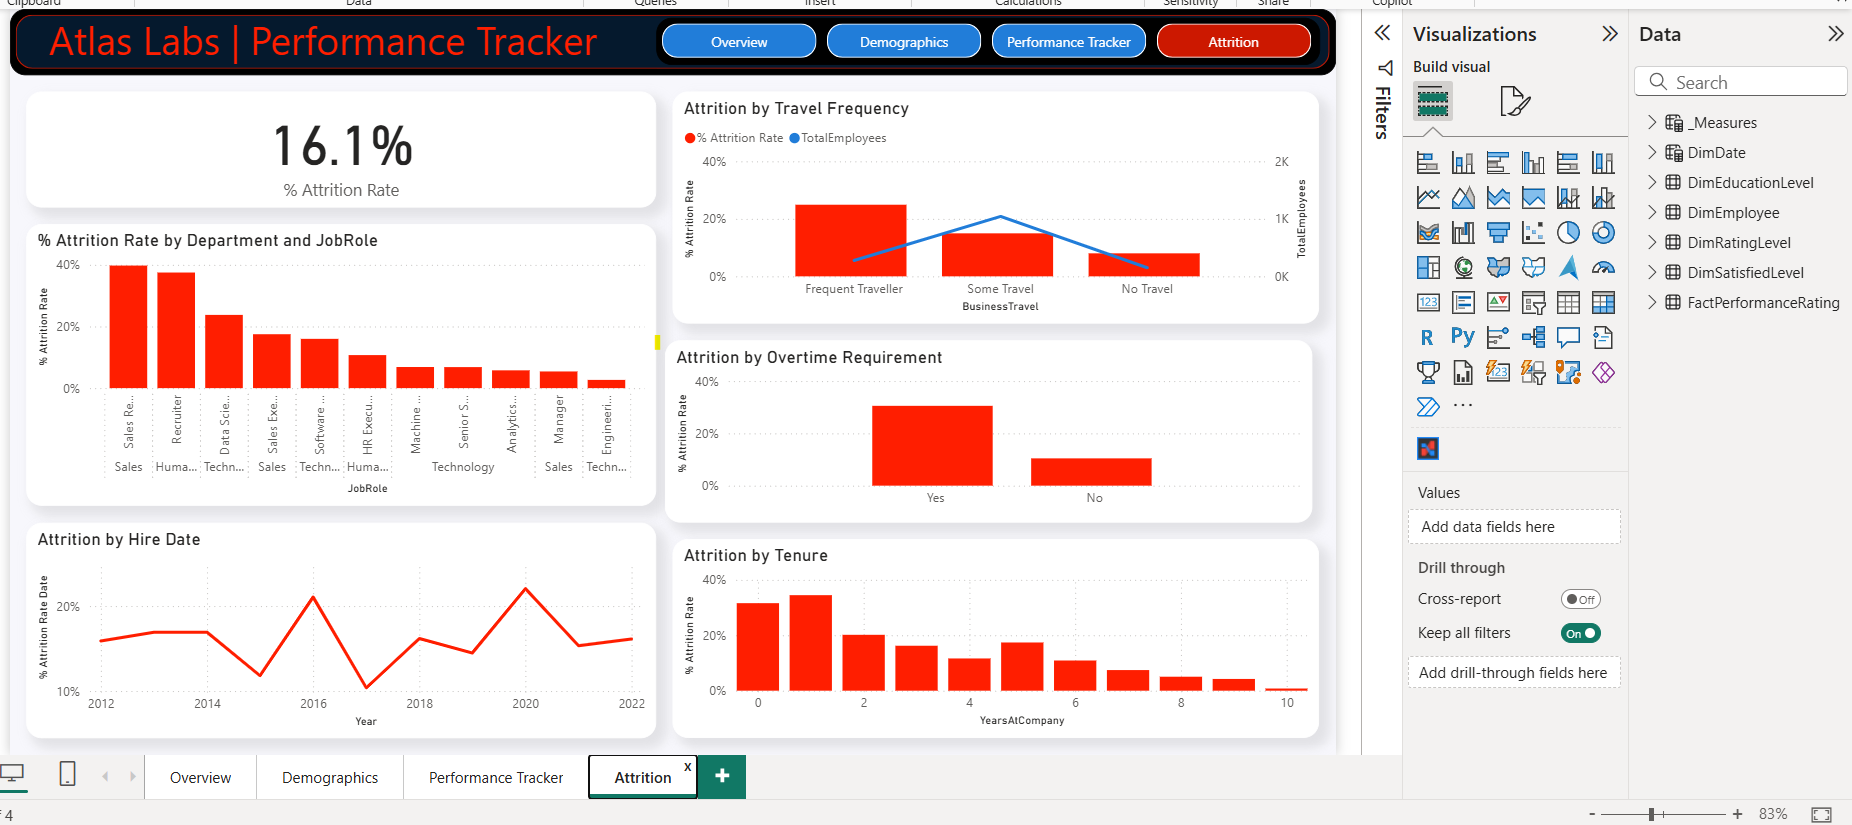

Layout of this report page (visuals, bound fields, positions):
{"tool":"powerbi","page":{"name":"Attrition","canvas":[1280,720],"ordinal":3},"visuals":[{"type":"card","fields":{"Values":["_Measures.% Attrition Rate"]},"box":[16,80,608,112],"z":0},{"type":"columnChart","fields":{"Category":["DimEmployee.Department","DimEmployee.JobRole"],"Y":["_Measures.% Attrition Rate"]},"box":[16,208,608,272],"z":1000},{"type":"lineChart","title":"Attrition by Hire Date","fields":{"Y":["_Measures.% Attrition Rate Date"],"Category":["DimDate.Date.Variation.Date Hierarchy.Year","DimDate.Date.Variation.Date Hierarchy.Quarter","DimDate.Date.Variation.Date Hierarchy.Month","DimDate.Date.Variation.Date Hierarchy.Day"]},"box":[16,496,608,208],"z":2000},{"type":"lineStackedColumnComboChart","title":"Attrition by Travel Frequency","fields":{"Y":["_Measures.% Attrition Rate"],"Category":["DimEmployee.BusinessTravel"],"Y2":["_Measures.TotalEmployees"]},"box":[640,80,624,224],"z":3000},{"type":"columnChart","title":"Attrition by Overtime Requirement","fields":{"Category":["DimEmployee.OverTime"],"Y":["_Measures.% Attrition Rate"]},"box":[632.2,319.7,624.9,176.1],"z":4000},{"type":"columnChart","title":"Attrition by Tenure","fields":{"Category":["DimEmployee.YearsAtCompany"],"Y":["_Measures.% Attrition Rate"]},"box":[640,512,624,192],"z":5000},{"type":"shape","box":[0,0,1280,64],"z":6000},{"type":"textbox","box":[32,0,624,64],"z":7000},{"type":"pageNavigator","box":[623.7,8.4,640.6,45.8],"z":8000}]}

Visuals, with their boxes on the page's 1280x720 design canvas (x1, y1, x2, y2). These are canvas units, not pixel positions in the 1852x825 screenshot, which may show the page scaled, cropped or inside an application window:
card - _Measures.% Attrition Rate: <region>16, 80, 624, 192</region>
columnChart - DimEmployee.Department x DimEmployee.JobRole: <region>16, 208, 624, 480</region>
"Attrition by Hire Date" lineChart: <region>16, 496, 624, 704</region>
"Attrition by Travel Frequency" lineStackedColumnComboChart: <region>640, 80, 1264, 304</region>
"Attrition by Overtime Requirement" columnChart: <region>632, 320, 1257, 496</region>
"Attrition by Tenure" columnChart: <region>640, 512, 1264, 704</region>
shape: <region>0, 0, 1280, 64</region>
textbox: <region>32, 0, 656, 64</region>
pageNavigator: <region>624, 8, 1264, 54</region>
